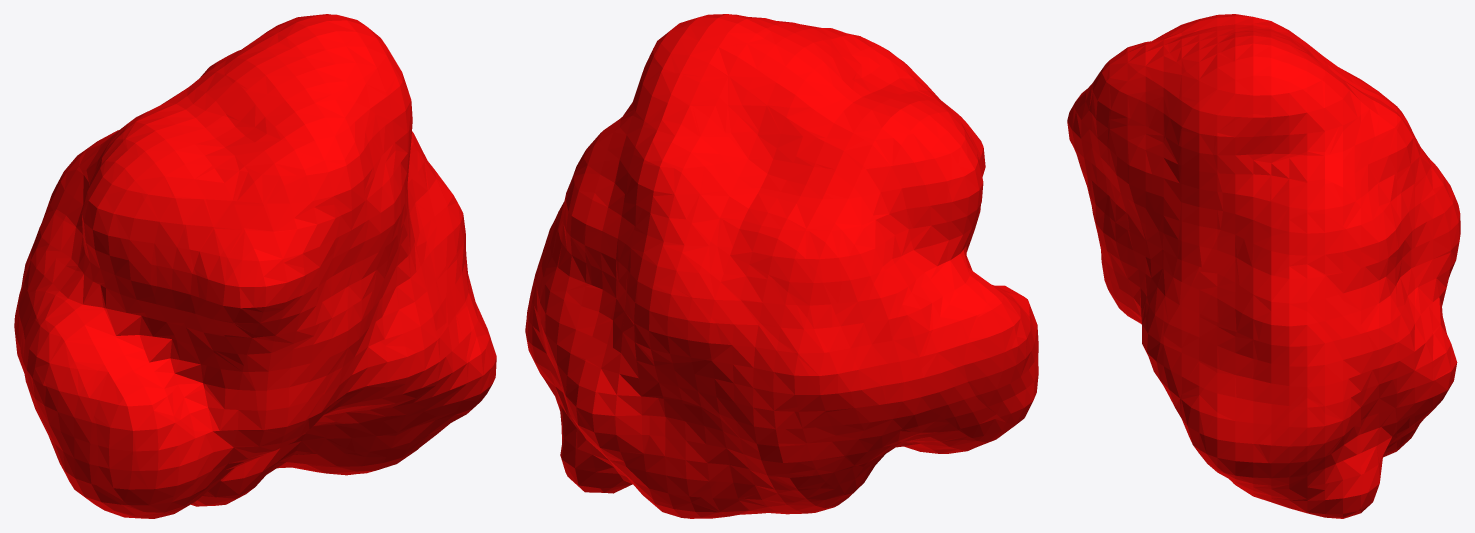
The model's file is gloC_coarse.dae.
3 views of the same model, side by side, from view 1: azimuth 30°, elevation 25°; view 2: azimuth 150°, elevation 25°; view 3: azimuth 270°, elevation 25° (orthographic). The views are drawn at different scales.
Visible parts, largest first — view 1: gloC; view 2: gloC; view 3: gloC.
Boxes of the visible parts, box(x1,y1,x2,y2) form: gloC: box(14, 14, 496, 518); gloC: box(525, 14, 1038, 518); gloC: box(1067, 14, 1460, 518).
Bounding box in the file's own units: 49.75 × 48.39 × 39.29.
